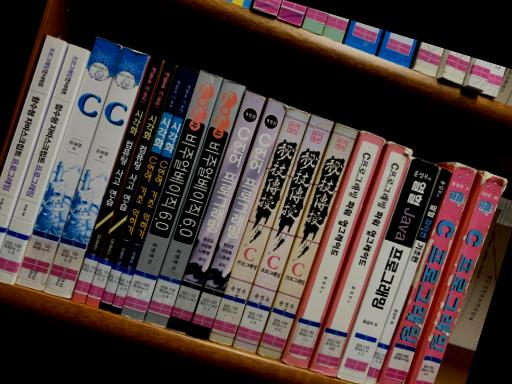book-spine: (15, 38, 121, 291), (43, 46, 148, 298), (120, 70, 221, 323), (144, 79, 243, 329), (186, 99, 288, 340), (309, 142, 413, 377), (166, 91, 266, 334), (284, 131, 386, 368), (209, 107, 310, 346), (335, 156, 440, 384), (233, 115, 334, 352), (257, 123, 357, 360), (71, 55, 162, 304), (85, 61, 175, 309), (99, 66, 188, 311), (110, 69, 198, 314), (379, 163, 476, 384), (0, 44, 87, 285), (413, 172, 506, 384), (364, 168, 450, 384), (0, 35, 64, 240)
